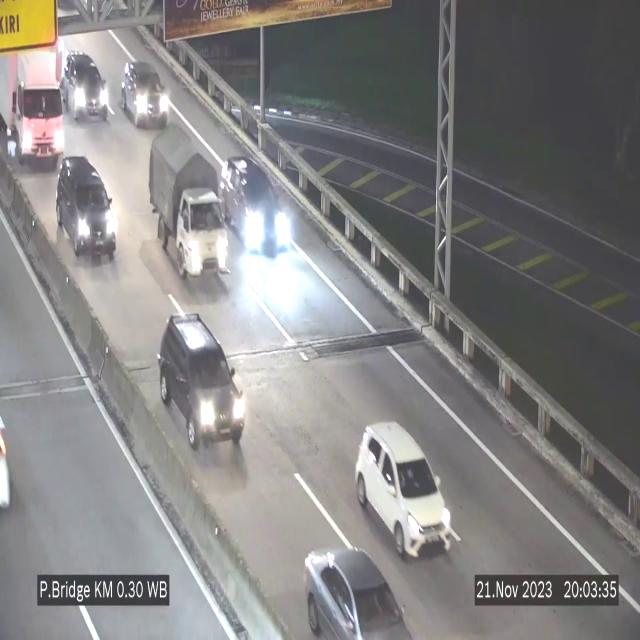Car: (294, 526, 414, 640), (356, 422, 452, 557), (161, 312, 249, 452), (220, 150, 288, 262), (53, 152, 117, 268), (59, 45, 112, 122), (125, 60, 169, 134)
Truck: (149, 130, 227, 282), (0, 42, 67, 161)
